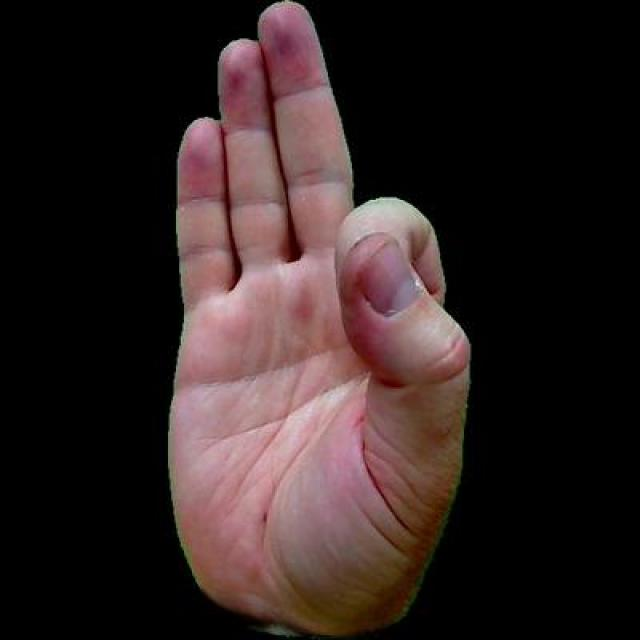f: (150, 0, 485, 637)
